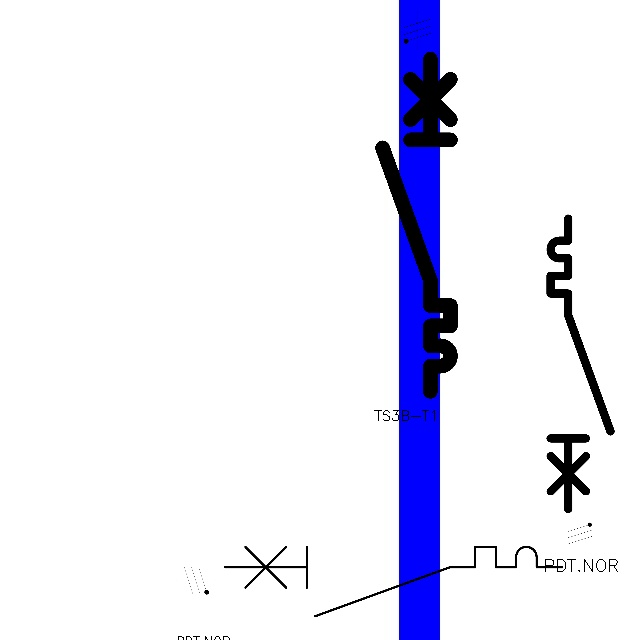interruptor_termomagnetico: (216, 538, 571, 625), (374, 50, 459, 400), (543, 211, 617, 516)
